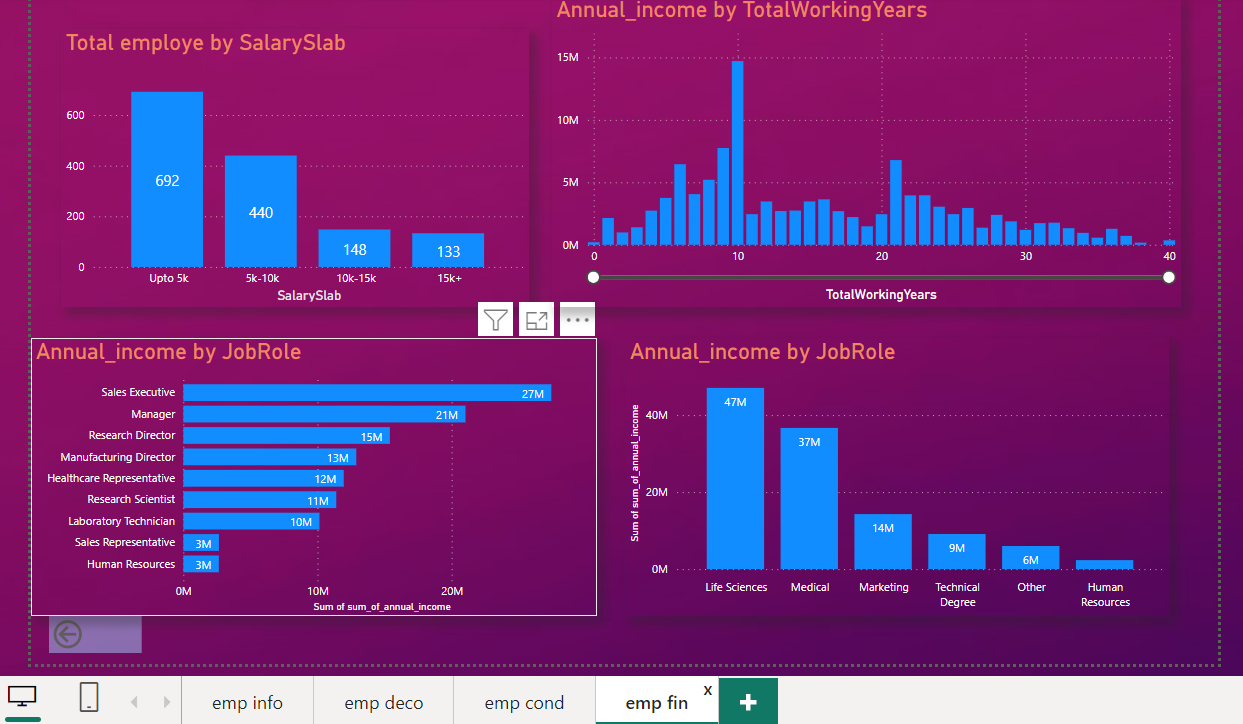

This screenshot's page, from the dashboard's own definition file:
{"tool":"powerbi","page":{"name":"emp fin","canvas":[1280,720],"ordinal":3},"visuals":[{"type":"actionButton","box":[19.4,668.2,100.3,40.4],"z":0},{"type":"clusteredColumnChart","fields":{"Category":["HR_Analytics.SalarySlab"],"Y":["HR_Analytics.Total employe"]},"box":[32.4,35.6,504.8,299.3],"z":1000},{"type":"clusteredBarChart","title":" Annual_income by JobRole","fields":{"Y":["Sum(jobrole_annual_income.sum_of_annual_income)"],"Category":["jobrole_annual_income.JobRole"]},"box":[0,368.3,610,300],"z":2000},{"type":"clusteredColumnChart","title":"Annual_income by TotalWorkingYears","fields":{"Category":["total_work_annual.TotalWorkingYears"],"Y":["Sum(total_work_annual.sum_of_annual_income)"]},"box":[561.7,0,678.3,335],"z":3000},{"type":"columnChart","title":"Annual_income by JobRole","fields":{"Category":["educ_annual_income.EducationField"],"Y":["Sum(educ_annual_income.sum_of_annual_income)"]},"box":[640,368.3,586.7,300],"z":4000}]}

Visuals, with their boxes on the page's 1280x720 design canvas (x1, y1, x2, y2). These are canvas units, not pixel positions in the 1243x724 screenshot, which may show the page scaled, cropped or inside an application window:
actionButton: x1=19, y1=668, x2=120, y2=709
clusteredColumnChart - HR_Analytics.SalarySlab x HR_Analytics.Total employe: x1=32, y1=36, x2=537, y2=335
" Annual_income by JobRole" clusteredBarChart: x1=0, y1=368, x2=610, y2=668
"Annual_income by TotalWorkingYears" clusteredColumnChart: x1=562, y1=0, x2=1240, y2=335
"Annual_income by JobRole" columnChart: x1=640, y1=368, x2=1227, y2=668
